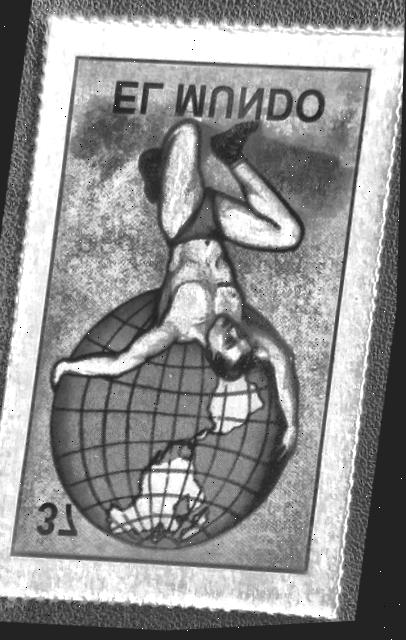El Mundo: (0, 19, 398, 620)
